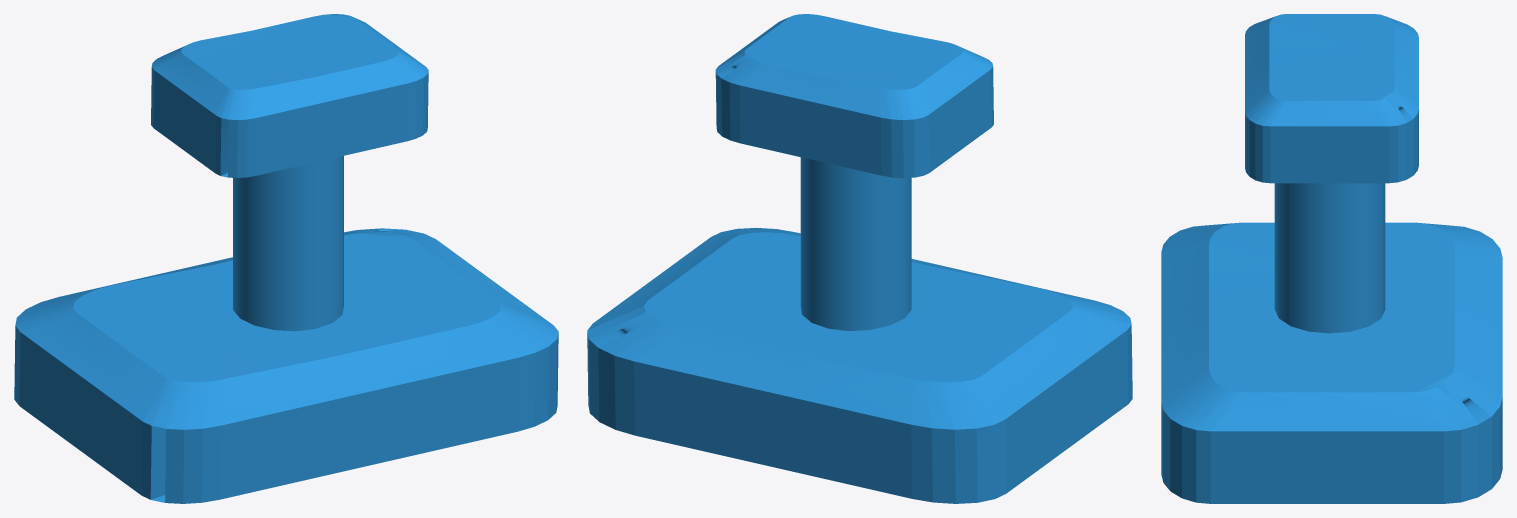
Rendered from stamp3.fbx.
The picture shows the model from 3 angles, left to right: view 1: azimuth 30°, elevation 25°; view 2: azimuth 150°, elevation 25°; view 3: azimuth 270°, elevation 25°; orthographic projection.
Visible parts, largest first — view 1: Cube_1, Cube, Cylinder; view 2: Cube_1, Cube, Cylinder; view 3: Cube_1, Cube, Cylinder.
Part boxes in pixels (bbox=[...]): Cube_1: bbox=[14, 228, 558, 503]; Cube: bbox=[151, 14, 428, 177]; Cylinder: bbox=[233, 156, 343, 331]; Cube_1: bbox=[587, 227, 1132, 503]; Cube: bbox=[715, 14, 993, 178]; Cylinder: bbox=[800, 157, 911, 330]; Cube_1: bbox=[1161, 222, 1502, 503]; Cube: bbox=[1245, 14, 1418, 183]; Cylinder: bbox=[1274, 183, 1385, 333].
Bounding box in the file's own units: 277 × 227 × 200.
